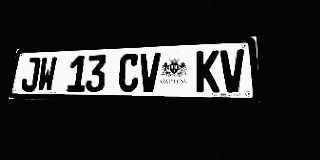1: (67, 55, 88, 92)
3: (85, 55, 107, 92)
C: (117, 53, 140, 92)
J: (20, 57, 41, 92)
K: (196, 50, 220, 92)
V: (220, 49, 246, 93), (138, 52, 161, 92)
W: (37, 57, 58, 92)
